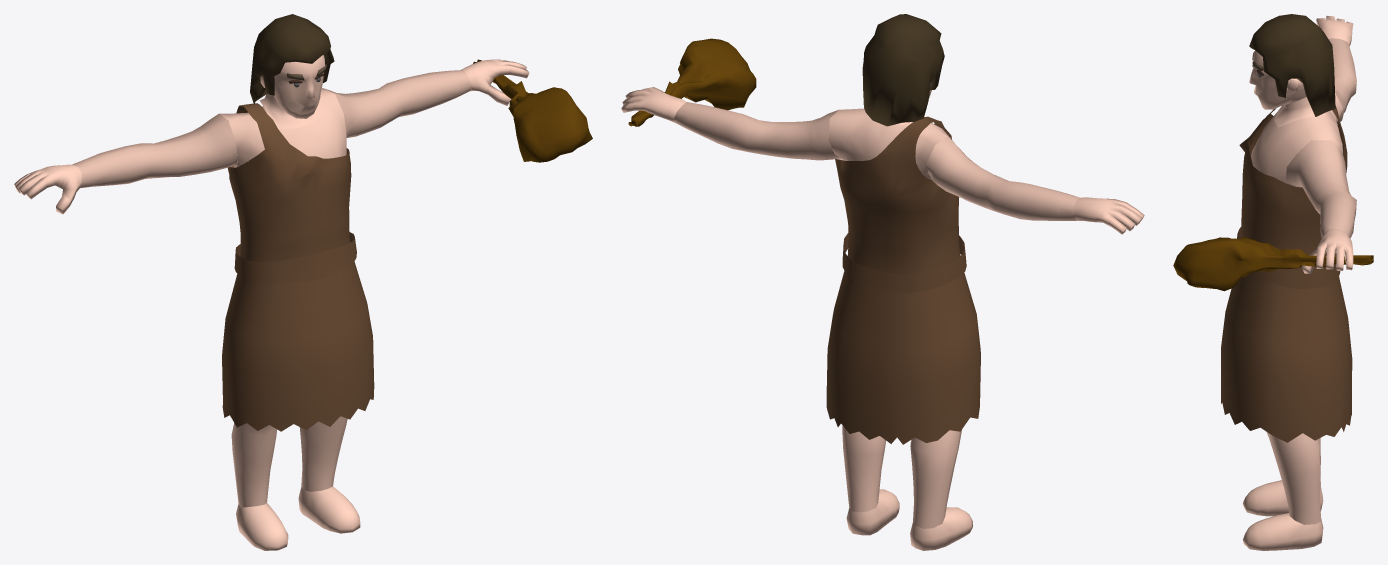
3 views of the same model, side by side, from view 1: azimuth 30°, elevation 25°; view 2: azimuth 150°, elevation 25°; view 3: azimuth 270°, elevation 25° (orthographic).
Parts seen in each view (by area): view 1: Body_Chest.007; view 2: Body_Chest.007; view 3: Body_Chest.007.
Boxes of the visible parts, x1,y1,x2,y2 form: Body_Chest.007: [14, 14, 592, 550]; Body_Chest.007: [621, 14, 1144, 550]; Body_Chest.007: [1173, 14, 1373, 550].
Bounding box in the file's own units: 2504 × 2388 × 854.
